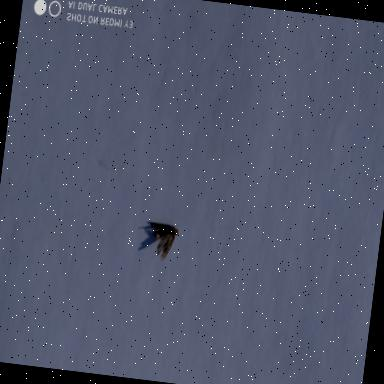pbw: (141, 220, 180, 264)
